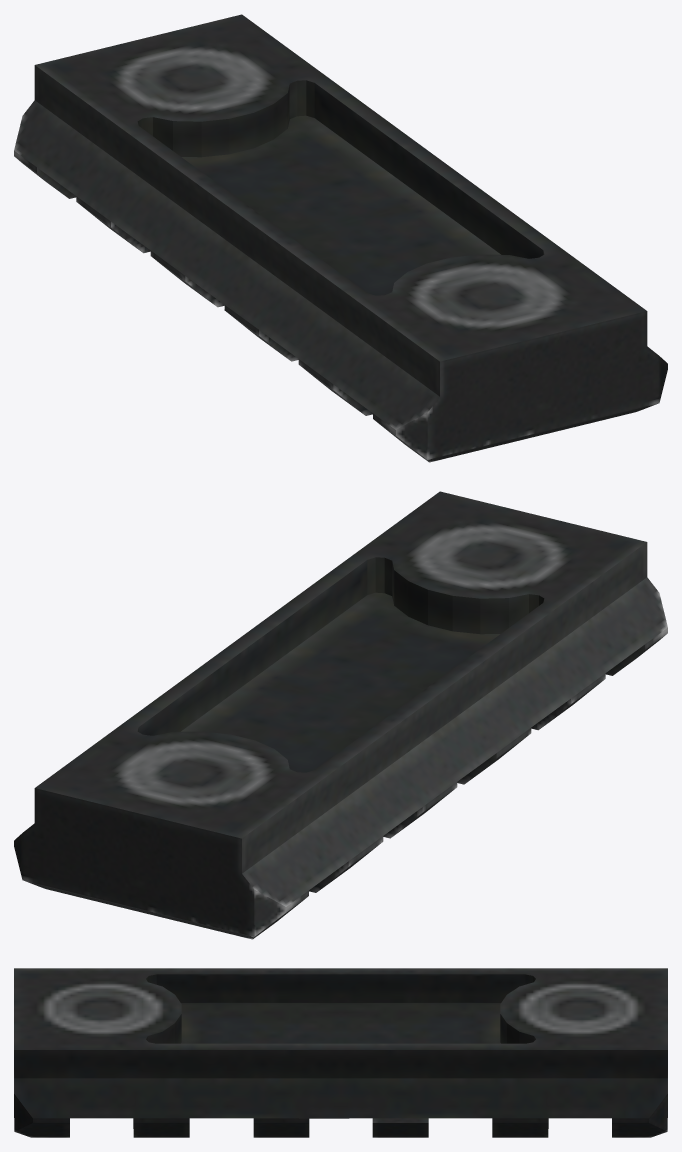
3 renders of one model, top to bottom at view 1: azimuth 30°, elevation 25°; view 2: azimuth 150°, elevation 25°; view 3: azimuth 270°, elevation 25°, orthographic. The views are drawn at different scales.
Visible parts, largest first — view 1: TW_59e0bdb186f774156f04ce82_PZ_Import; view 2: TW_59e0bdb186f774156f04ce82_PZ_Import; view 3: TW_59e0bdb186f774156f04ce82_PZ_Import.
Part boxes in pixels (<box>): TW_59e0bdb186f774156f04ce82_PZ_Import: <box>14,14,667,462</box>; TW_59e0bdb186f774156f04ce82_PZ_Import: <box>14,491,667,939</box>; TW_59e0bdb186f774156f04ce82_PZ_Import: <box>14,968,667,1137</box>.
Size of the model in its own units: 0.0122 by 0.0316 by 0.00468.
Materials: 1 (1 with a texture image).
